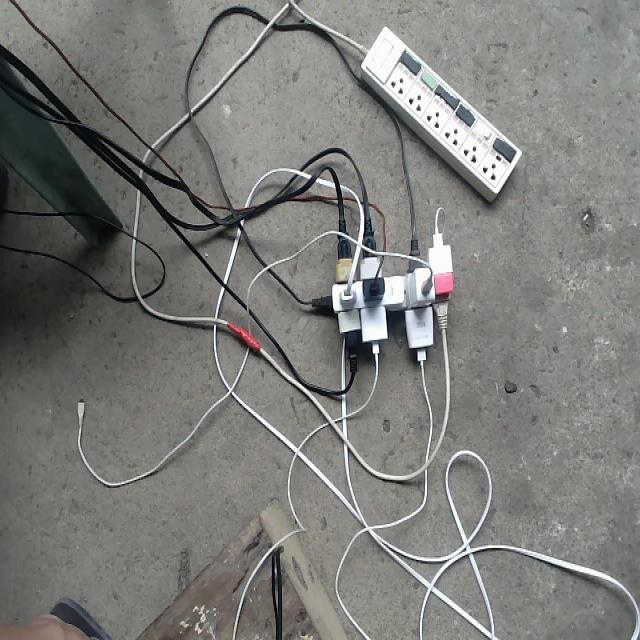-: (315, 226, 454, 366)
